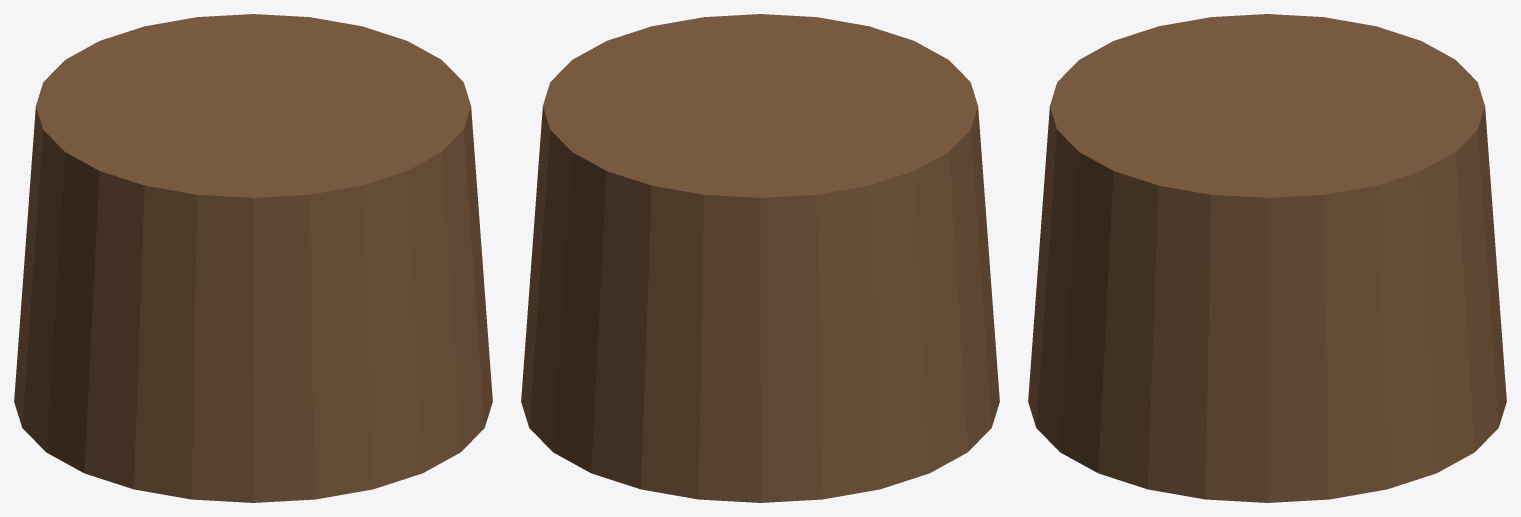
Rendered from escenario.glb.
The picture shows the model from 3 angles, left to right: view 1: azimuth 30°, elevation 25°; view 2: azimuth 150°, elevation 25°; view 3: azimuth 270°, elevation 25°; orthographic projection.
Visible parts, largest first — view 1: Tocon-col; view 2: Tocon-col; view 3: Tocon-col.
Part boxes in pixels (x1=…): Tocon-col: x1=14, y1=14, x2=492, y2=502; Tocon-col: x1=521, y1=14, x2=999, y2=502; Tocon-col: x1=1028, y1=14, x2=1506, y2=502.
Size of what is drawn, in the model's own units: 0.66 by 0.45 by 0.66.
